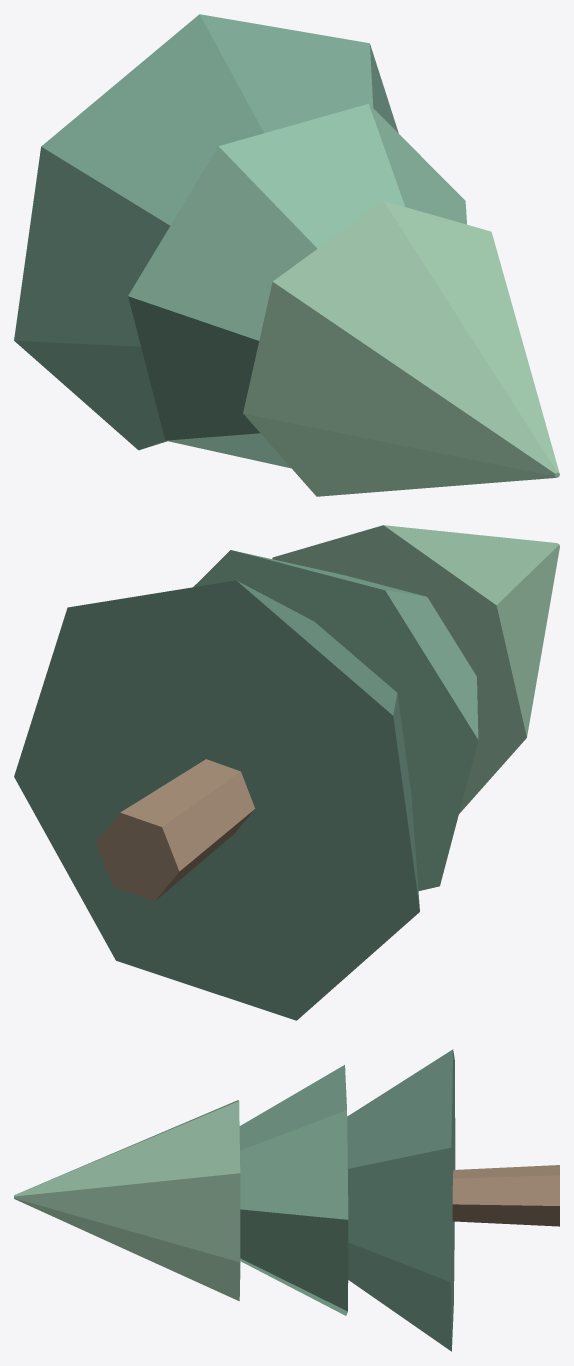
Rendered from tree_pine_small.glb.
3 renders of one model, top to bottom at view 1: azimuth 30°, elevation 25°; view 2: azimuth 150°, elevation 25°; view 3: azimuth 270°, elevation 25°, orthographic. The views are drawn at different scales.
Visible parts, largest first — view 1: tree_pine_small_pine_light, tree_pine_small_pine_dark, tree_pine_small_pine_mid; view 2: tree_pine_small_pine_dark, tree_pine_small_pine_mid, tree_pine_small_pine_light, tree_pine_small_bark_dark; view 3: tree_pine_small_pine_dark, tree_pine_small_pine_light, tree_pine_small_pine_mid, tree_pine_small_bark_dark.
Boxes of the visible parts, box(x1,y1,x2,y2) form: tree_pine_small_pine_light: box(243, 201, 559, 496); tree_pine_small_pine_dark: box(14, 14, 398, 450); tree_pine_small_pine_mid: box(128, 103, 466, 468); tree_pine_small_pine_dark: box(14, 580, 419, 1020); tree_pine_small_pine_mid: box(193, 550, 478, 890); tree_pine_small_pine_light: box(272, 525, 559, 813); tree_pine_small_bark_dark: box(95, 759, 255, 901); tree_pine_small_pine_dark: box(347, 1049, 455, 1351); tree_pine_small_pine_light: box(14, 1100, 240, 1301); tree_pine_small_pine_mid: box(239, 1065, 348, 1315); tree_pine_small_bark_dark: box(452, 1165, 559, 1226).
Bounding box in the file's own units: 2.38 × 2.36 × 4.27.
